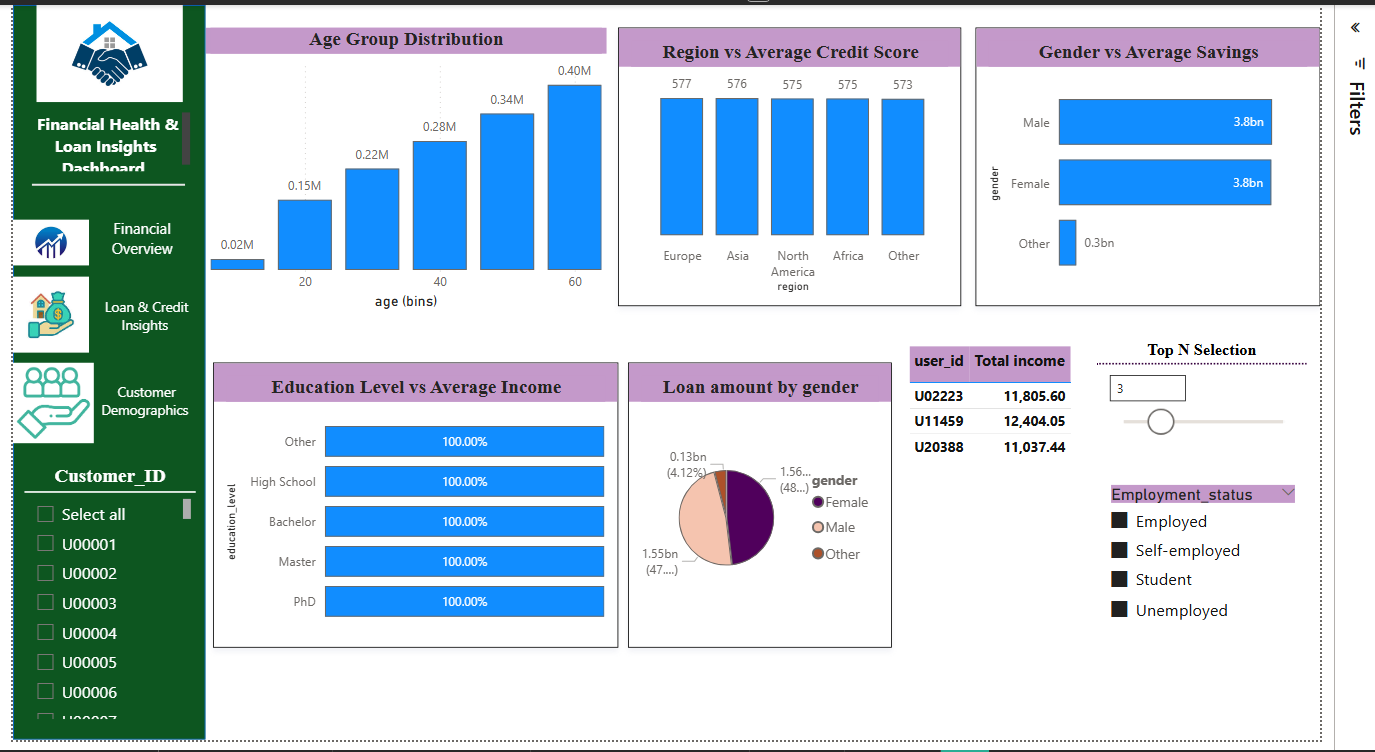

The page's visual inventory and layout, read from the dashboard file:
{"tool":"powerbi","page":{"name":" Customer Demographics","canvas":[1280,720],"ordinal":2},"visuals":[{"type":"shape","box":[0,0,188.5,719.2],"z":0,"group":"g1"},{"type":"clusteredColumnChart","title":"Age Group Distribution ","fields":{"Y":["Sum(synthetic_personal_finance_data.age)"],"Category":["synthetic_personal_finance_data.age (bins)"]},"box":[188.4,22.1,393,281.4],"z":0},{"type":"image","box":[0,192.9,74.5,79],"z":0,"group":"g2"},{"type":"image","box":[0,263.8,74.5,77.9],"z":0,"group":"g3"},{"type":"image","box":[0,349.7,79.1,79],"z":0,"group":"g4"},{"type":"barChart","title":" Gender vs Average Savings ","fields":{"Category":["synthetic_personal_finance_data.gender"],"Y":["Sum(synthetic_personal_finance_data.savings_usd)"]},"box":[942.6,21.6,337.4,272.6],"z":1000},{"type":"textbox","box":[74.5,203,103.6,60.3],"z":1000,"group":"g2"},{"type":"textbox","box":[79.1,281.2,98.9,47.6],"z":1000,"group":"g3"},{"type":"textbox","box":[79.1,364.8,98.9,50],"z":1000,"group":"g4"},{"type":"hundredPercentStackedBarChart","title":"Education Level vs Average Income","fields":{"Category":["synthetic_personal_finance_data.education_level"],"Y":["Avg(synthetic_personal_finance_data.monthly_income_usd)"]},"box":[195.3,350,396.5,279.1],"z":2000},{"type":"columnChart","title":" Region vs Average Credit Score","fields":{"Category":["synthetic_personal_finance_data.region"],"Y":["synthetic_personal_finance_data.Average Credit Score"]},"box":[592,21.6,336.2,272.6],"z":3000},{"type":"slicer","title":"Top N Selection","fields":{"Values":["Top N Selection.Top N Selection"]},"box":[1060.5,327.9,205.8,101.2],"z":4000},{"type":"tableEx","fields":{"Values":["synthetic_personal_finance_data.user_id","synthetic_personal_finance_data.Total income"]},"box":[870.9,329.1,181.4,309.3],"z":5000},{"type":"slicer","fields":{"Values":["synthetic_personal_finance_data.employment_status"]},"box":[1061.6,465.1,205.8,164],"z":6000},{"type":"group","id":"g1","title":"Group 4","box":[0,0,188.5,719.2],"z":7000},{"type":"slicer","title":"Customer_ID","fields":{"Values":["synthetic_personal_finance_data.user_id"]},"box":[10.8,450.3,168.1,254.6],"z":8000},{"type":"image","box":[10.5,0,167.6,95.3],"z":9000,"group":"g1"},{"type":"pieChart","title":"Loan amount by gender","fields":{"Category":["synthetic_personal_finance_data.gender"],"Y":["Sum(synthetic_personal_finance_data.loan_amount_usd)"]},"box":[602.3,350,258.1,279.1],"z":9000},{"type":"textbox","box":[10.5,99.9,167.6,67.4],"z":10000,"group":"g1"},{"type":"shape","box":[18.6,159.2,150.1,33.7],"z":11000,"group":"g1"},{"type":"group","id":"g2","title":"Group 1","box":[0,192.9,178,79],"z":12000,"group":"g1"},{"type":"group","id":"g3","title":"Group 2","box":[0,263.8,178,77.9],"z":13000,"group":"g1"},{"type":"group","id":"g4","title":"Group 3","box":[0,349.7,178,79],"z":14000,"group":"g1"}]}

Visuals, with their boxes on the page's 1280x720 design canvas (x1, y1, x2, y2). These are canvas units, not pixel positions in the 1375x752 screenshot, which may show the page scaled, cropped or inside an application window:
shape: <box>0,0,188,719</box>
"Age Group Distribution " clusteredColumnChart: <box>188,22,581,304</box>
image: <box>0,193,74,272</box>
image: <box>0,264,74,342</box>
image: <box>0,350,79,429</box>
" Gender vs Average Savings " barChart: <box>943,22,1280,294</box>
textbox: <box>74,203,178,263</box>
textbox: <box>79,281,178,329</box>
textbox: <box>79,365,178,415</box>
"Education Level vs Average Income" hundredPercentStackedBarChart: <box>195,350,592,629</box>
" Region vs Average Credit Score" columnChart: <box>592,22,928,294</box>
"Top N Selection" slicer: <box>1060,328,1266,429</box>
tableEx - synthetic_personal_finance_data.user_id x synthetic_personal_finance_data.Total income: <box>871,329,1052,638</box>
slicer - synthetic_personal_finance_data.employment_status: <box>1062,465,1267,629</box>
"Group 4" group: <box>0,0,188,719</box>
"Customer_ID" slicer: <box>11,450,179,705</box>
image: <box>10,0,178,95</box>
"Loan amount by gender" pieChart: <box>602,350,860,629</box>
textbox: <box>10,100,178,167</box>
shape: <box>19,159,169,193</box>
"Group 1" group: <box>0,193,178,272</box>
"Group 2" group: <box>0,264,178,342</box>
"Group 3" group: <box>0,350,178,429</box>
